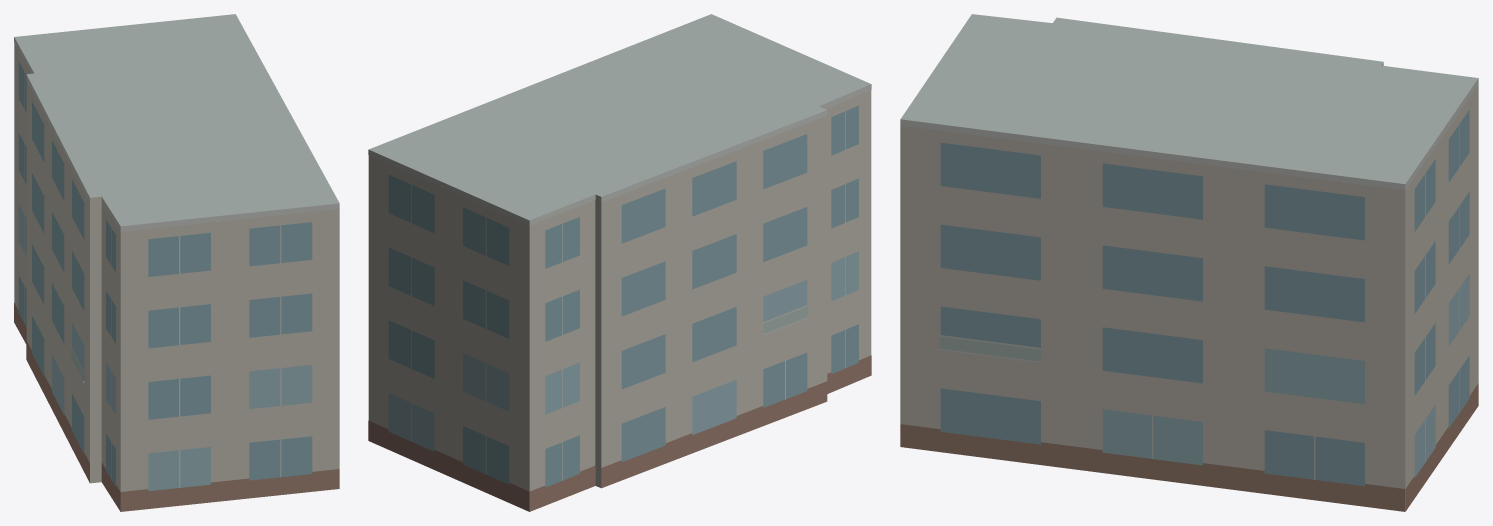
Rendered from survey-upis-32947844.glb.
3 renders of one model, left to right at view 1: azimuth 30°, elevation 25°; view 2: azimuth 150°, elevation 25°; view 3: azimuth 270°, elevation 25°, orthographic. The views are drawn at different scales.
Visible parts, largest first — view 1: survey-upis-32947844.tmp; view 2: survey-upis-32947844.tmp; view 3: survey-upis-32947844.tmp.
Boxes of the visible parts, left/top/right/bottom form: survey-upis-32947844.tmp: left=14, top=14, right=339, bottom=511; survey-upis-32947844.tmp: left=368, top=14, right=871, bottom=511; survey-upis-32947844.tmp: left=900, top=14, right=1478, bottom=511.
Bounding box in the file's own units: 14.27 × 12.8 × 20.48.
